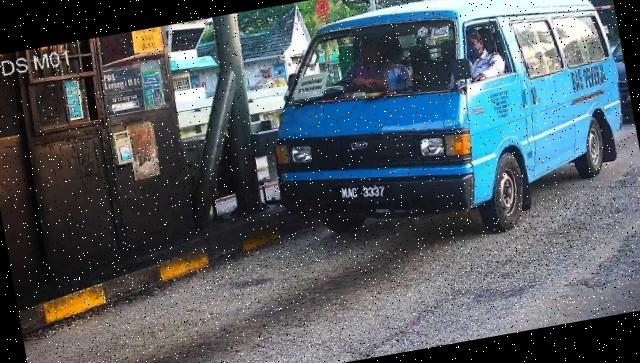License_Plate: (336, 175, 393, 209)
van: (252, 1, 640, 269)
